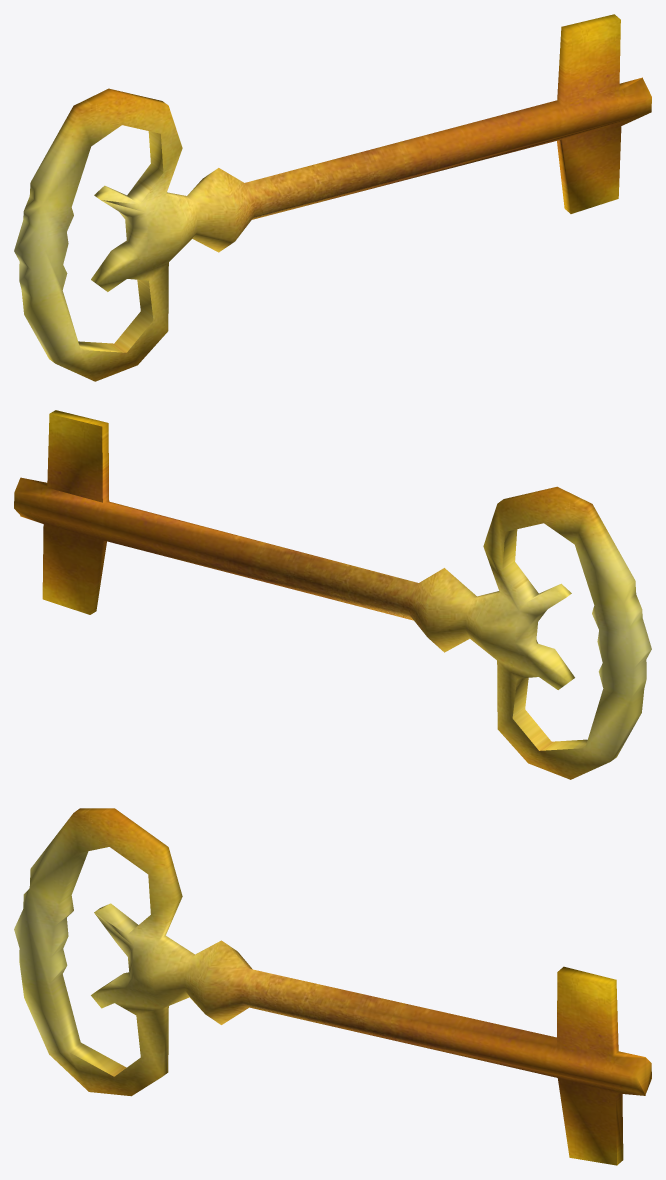
Rendered from clef.obj.
The picture shows the model from 3 angles, top to bottom: view 1: azimuth 30°, elevation 25°; view 2: azimuth 150°, elevation 25°; view 3: azimuth 330°, elevation 25°; orthographic projection.
Visible parts, largest first — view 1: key2:key2; view 2: key2:key2; view 3: key2:key2.
Boxes of the visible parts, x1,y1,x2,y2 form: key2:key2: [14, 14, 651, 381]; key2:key2: [14, 410, 651, 779]; key2:key2: [14, 808, 651, 1165].
Bounding box in the file's own units: 4.17 × 1.8 × 0.3927.
Materials: 1 (1 with a texture image).
